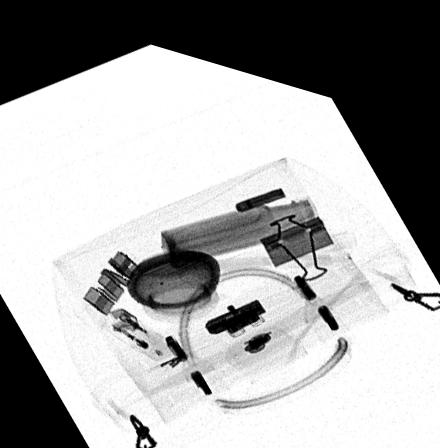Lighter: (104, 299, 166, 352)
